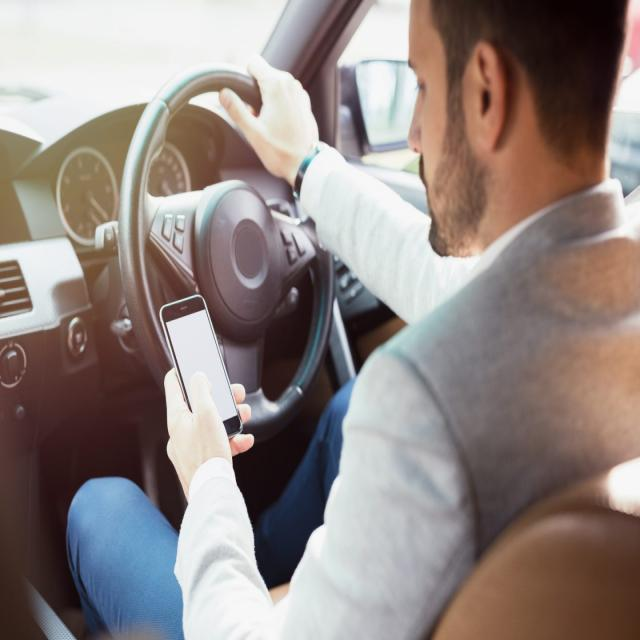phone: (138, 275, 266, 442)
